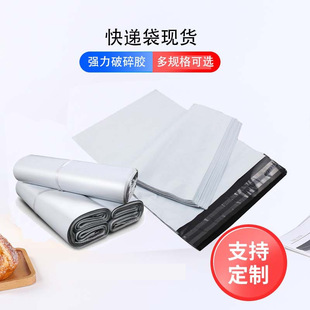塑料袋: (4, 54, 300, 310)
